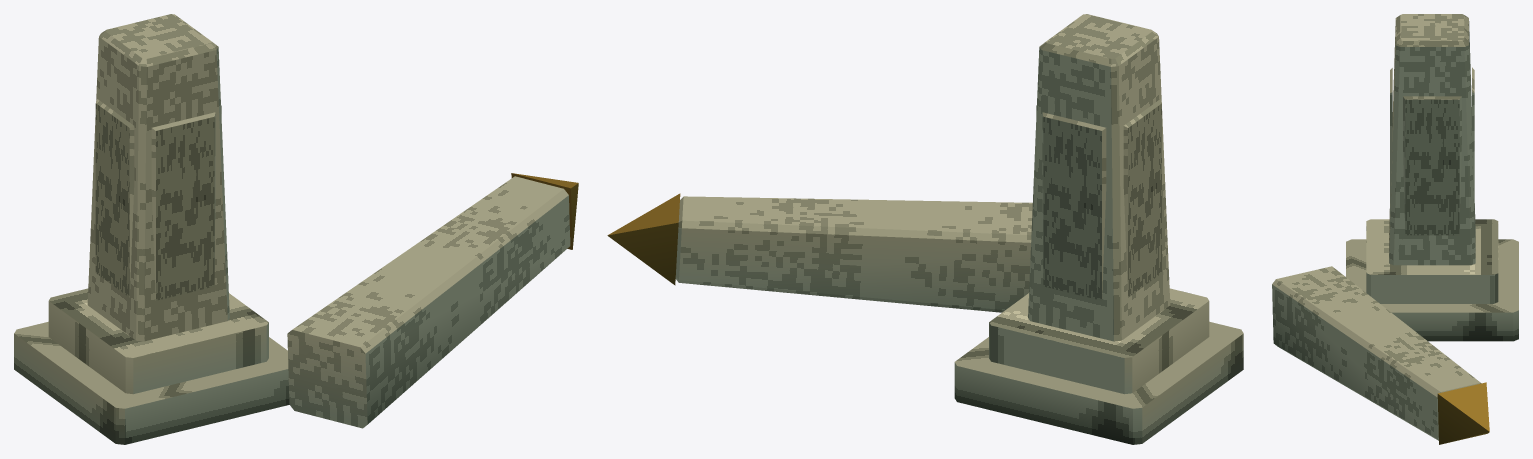
The model's file is ruin.obelisk__broken.glb.
3 views of the same model, side by side, from view 1: azimuth 30°, elevation 25°; view 2: azimuth 150°, elevation 25°; view 3: azimuth 270°, elevation 25° (orthographic). The views are drawn at different scales.
Parts seen in each view (by area): view 1: kit_fallen, kit_base, kit_shaft, kit_glyphs; view 2: kit_fallen, kit_base, kit_shaft, kit_glyphs; view 3: kit_fallen, kit_base, kit_shaft, kit_glyphs.
Part boxes in pixels (x1,y1,x2,y2): kit_fallen: [287, 173, 578, 428]; kit_base: [14, 288, 289, 444]; kit_shaft: [87, 14, 229, 341]; kit_glyphs: [95, 99, 221, 300]; kit_fallen: [607, 193, 1032, 312]; kit_base: [954, 288, 1243, 444]; kit_shaft: [1028, 14, 1170, 341]; kit_glyphs: [1036, 99, 1161, 300]; kit_fallen: [1272, 266, 1489, 444]; kit_base: [1346, 219, 1518, 341]; kit_shaft: [1389, 14, 1475, 265]; kit_glyphs: [1390, 67, 1474, 235].
Bounding box in the file's own units: 5.57 × 3.36 × 2.71.
Materials: 4 (3 with a texture image).
